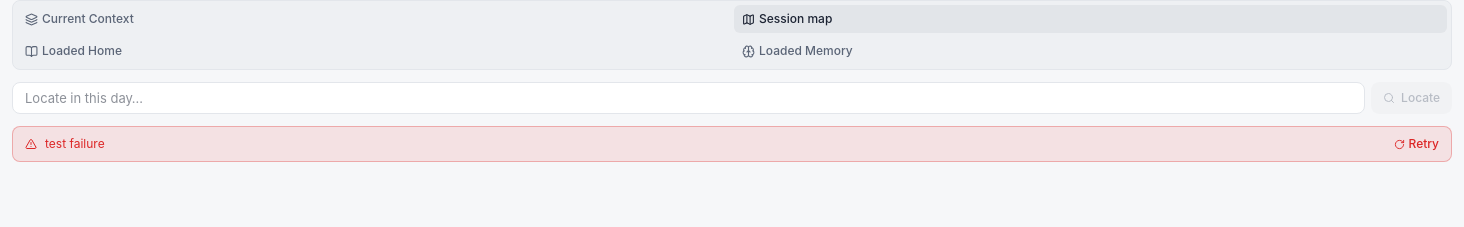
Test case: openContextDrawer › keeps Session map available while installed Context tabs are empty
Click the button "Current Context": coordinates (88, 18) [17,5,730,33]
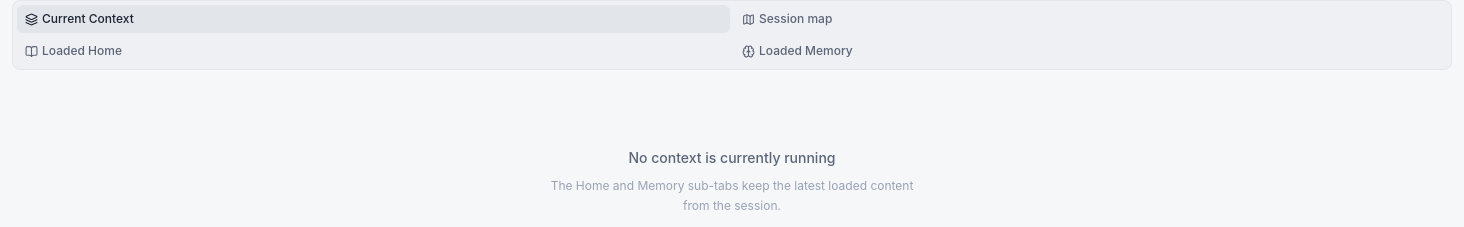
Expected: the text "No context is currently running" is shown, [628,148,836,168]
